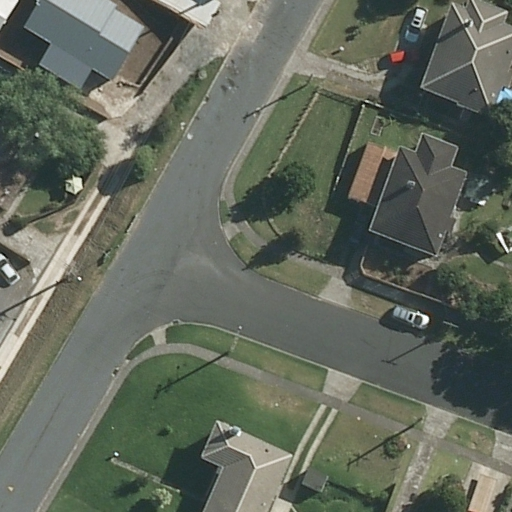DT: (221, 321, 250, 357), (406, 399, 437, 431), (58, 260, 89, 286), (439, 316, 463, 339), (301, 64, 319, 89)
